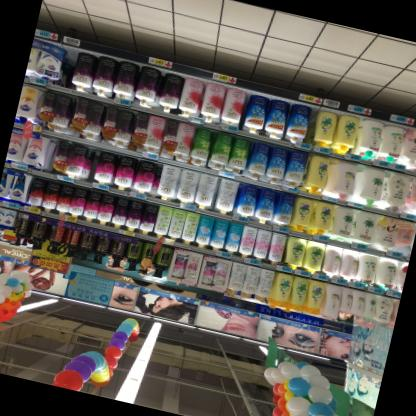empty_space: (57, 46, 80, 90)
